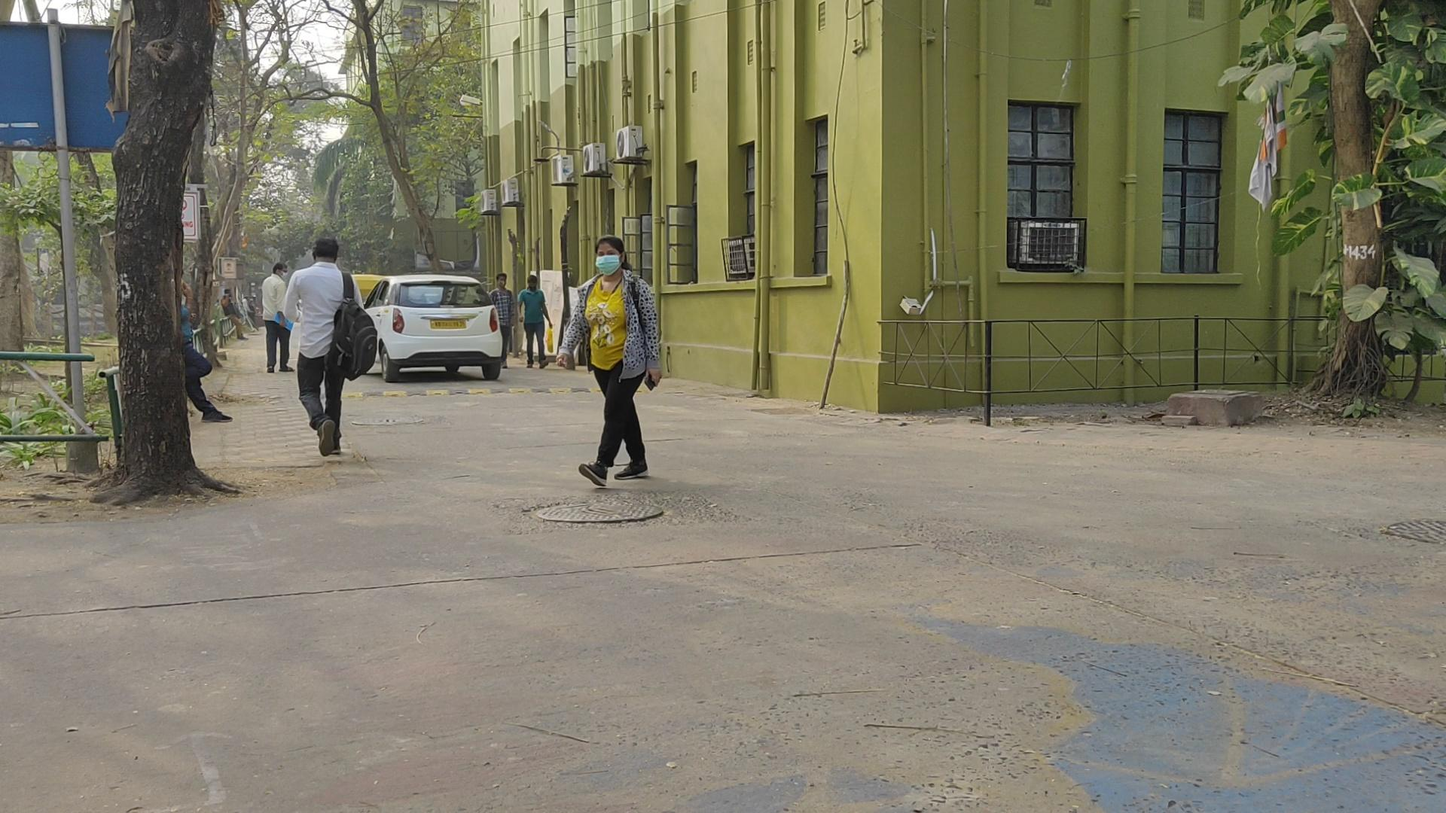car: (365, 276, 505, 383)
